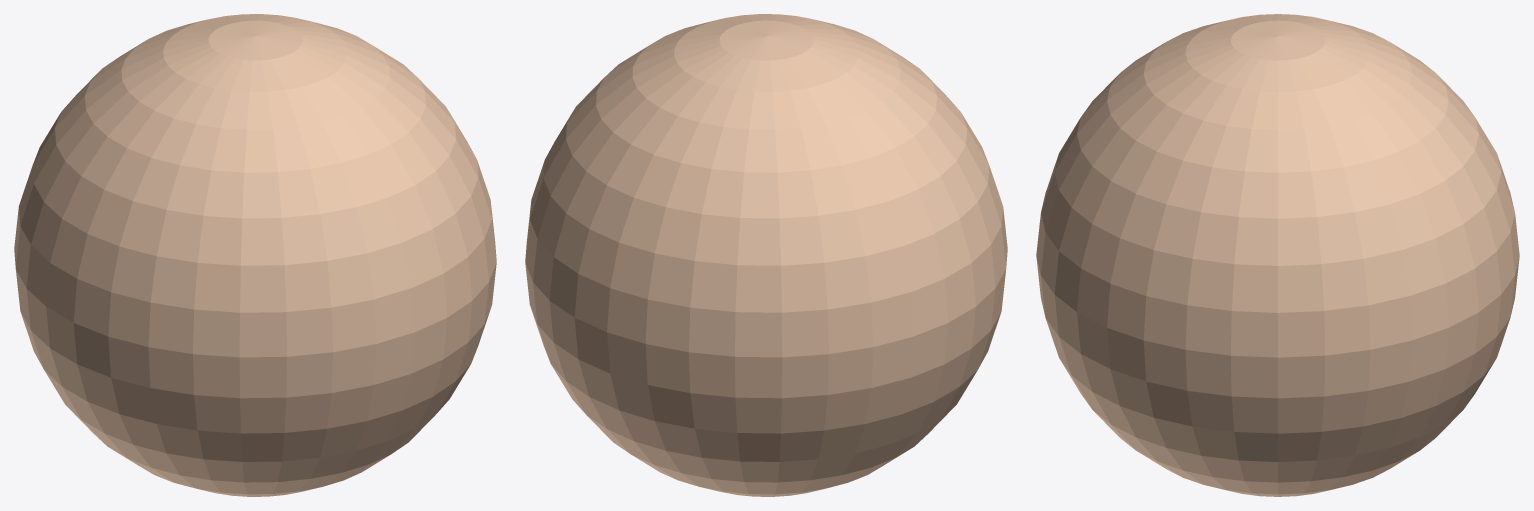
File: enemy_right_hend.obj
3 renders of one model, left to right at view 1: azimuth 30°, elevation 25°; view 2: azimuth 150°, elevation 25°; view 3: azimuth 270°, elevation 25°, orthographic.
Visible parts, largest first — view 1: 球體.007_球體.008; view 2: 球體.007_球體.008; view 3: 球體.007_球體.008.
Boxes of the visible parts, x1=… form: 球體.007_球體.008: x1=14, y1=14, x2=496, y2=496; 球體.007_球體.008: x1=525, y1=14, x2=1007, y2=496; 球體.007_球體.008: x1=1036, y1=14, x2=1519, y2=496.
Bounding box in the file's own units: 0.4784 × 0.4784 × 0.4784.
Materials: 1 (1 with a texture image).
